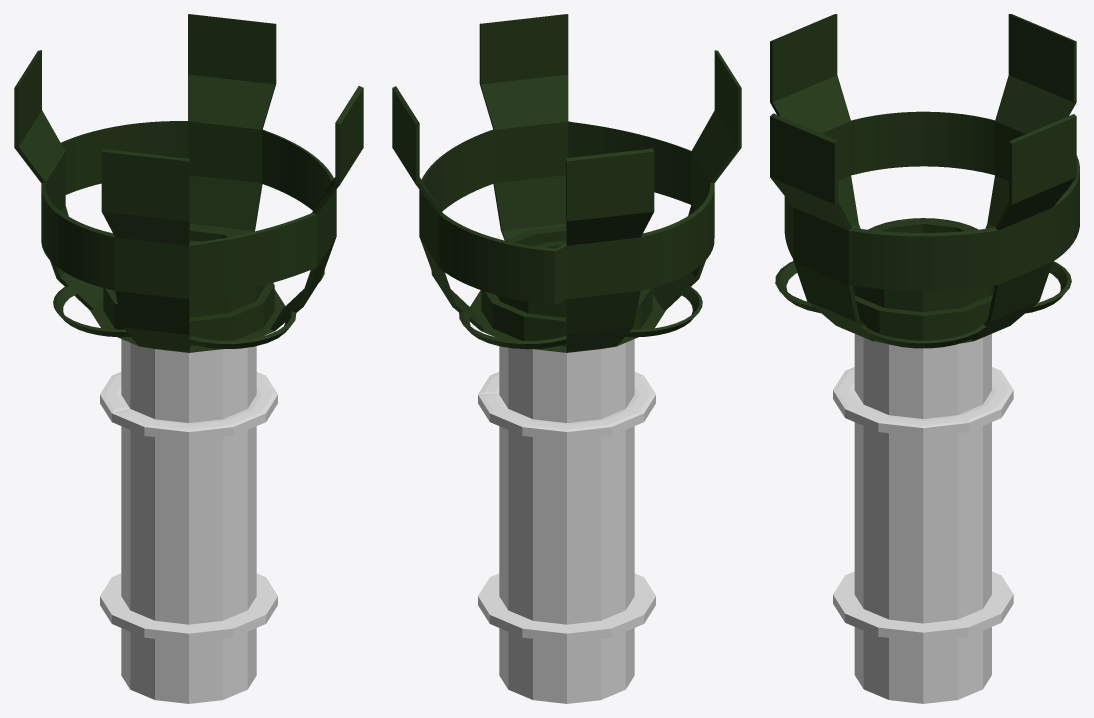
File: Mesale Low Poly.fbx
The picture shows the model from 3 angles, left to right: view 1: azimuth 30°, elevation 25°; view 2: azimuth 150°, elevation 25°; view 3: azimuth 270°, elevation 25°; orthographic projection.
Visible parts, largest first — view 1: Cylinder.002, Cylinder.003; view 2: Cylinder.002, Cylinder.003; view 3: Cylinder.002, Cylinder.003.
Part boxes in pixels (<box>): Cylinder.002: <box>14,14,363,352</box>; Cylinder.003: <box>100,339,277,703</box>; Cylinder.002: <box>392,14,741,352</box>; Cylinder.003: <box>478,339,655,703</box>; Cylinder.002: <box>770,14,1079,348</box>; Cylinder.003: <box>833,334,1013,703</box>.
Size of the model in its own units: 277 by 597 by 280.
